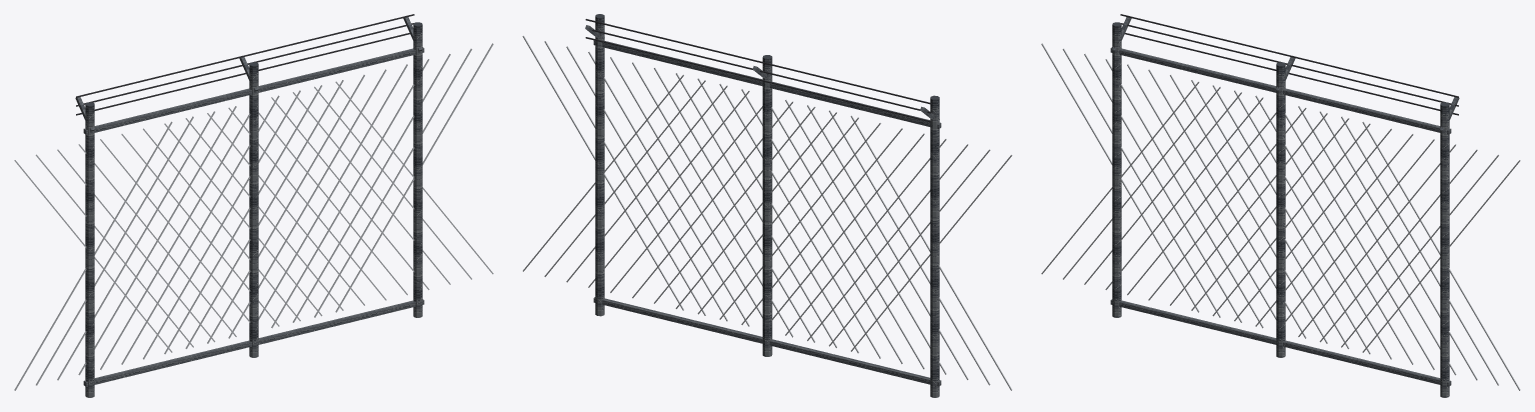
Rendered from DST_FenceSection_4m.glb.
3 views of the same model, side by side, from view 1: azimuth 30°, elevation 25°; view 2: azimuth 150°, elevation 25°; view 3: azimuth 330°, elevation 25° (orthographic). The views are drawn at different scales.
Parts seen in each view (by area): view 1: Post.002, Post, Post.001, BotRail, TopRail, Barb.002, Barb.001, Barb, Link.001, Link.003, Link.029, Link.007 (+28 smaller); view 2: Post.001, Post, Post.002, BotRail, TopRail, Barb.002, Barb, Barb.001, Link.001, Link.025, Link.003, Link.031 (+28 smaller); view 3: Post, Post.002, Post.001, BotRail, TopRail, Barb.002, Barb.001, Barb, Link.002, Link, Link.024, Link.030 (+28 smaller).
Boxes of the visible parts, x1,y1,x2,y2 form: Post.002: [413, 22, 422, 317]; Post: [85, 102, 94, 397]; Post.001: [249, 62, 258, 357]; BotRail: [83, 299, 424, 386]; TopRail: [83, 47, 424, 134]; Barb.002: [76, 14, 414, 97]; Barb.001: [76, 23, 413, 106]; Barb: [76, 33, 409, 115]; Link.001: [14, 121, 172, 390]; Link.003: [36, 116, 193, 385]; Link.029: [314, 48, 472, 317]; Link.007: [78, 106, 236, 375]; Post.001: [762, 55, 772, 356]; Post: [930, 95, 939, 397]; Post.002: [595, 14, 604, 316]; BotRail: [593, 297, 941, 386]; TopRail: [593, 40, 941, 129]; Barb.002: [585, 19, 931, 104]; Barb: [585, 37, 931, 122]; Barb.001: [592, 29, 931, 113]; Link.001: [850, 115, 1012, 390]; Link.025: [588, 51, 749, 326]; Link.003: [829, 110, 990, 385]; Link.031: [522, 35, 683, 310]; Post: [1112, 22, 1121, 317]; Post.002: [1440, 102, 1449, 397]; Post.001: [1276, 62, 1285, 357]; BotRail: [1110, 299, 1451, 386]; TopRail: [1110, 47, 1451, 134]; Barb.002: [1120, 14, 1458, 97]; Barb.001: [1121, 23, 1458, 106]; Barb: [1125, 33, 1458, 115]; Link.002: [1062, 48, 1220, 317]; Link: [1041, 43, 1199, 312]; Link.024: [1298, 106, 1456, 375]; Link.030: [1362, 121, 1520, 390].
Size of the model in its own units: 5.67 by 3.33 by 0.3321.
3 materials, 1 textured.
